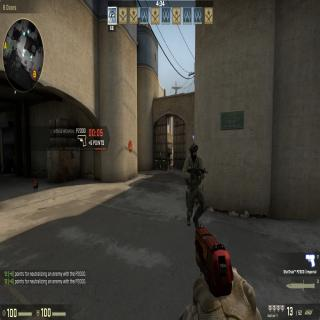CT-Body: (185, 142, 204, 227), (167, 148, 170, 169)
CT-Head: (189, 143, 198, 161)
